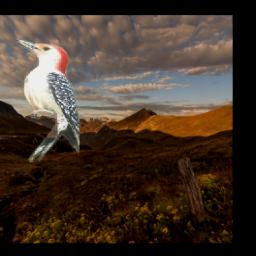Woodpecker: (12, 37, 80, 162)
